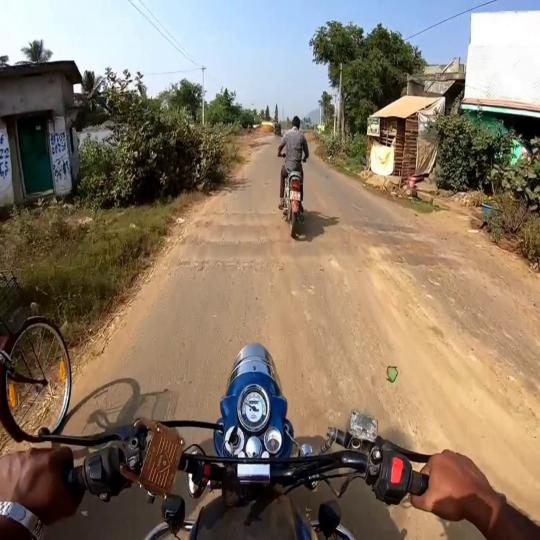Speed Bump: (171, 242, 460, 270), (303, 210, 422, 236), (188, 219, 290, 242), (308, 232, 431, 250), (195, 210, 280, 221)
